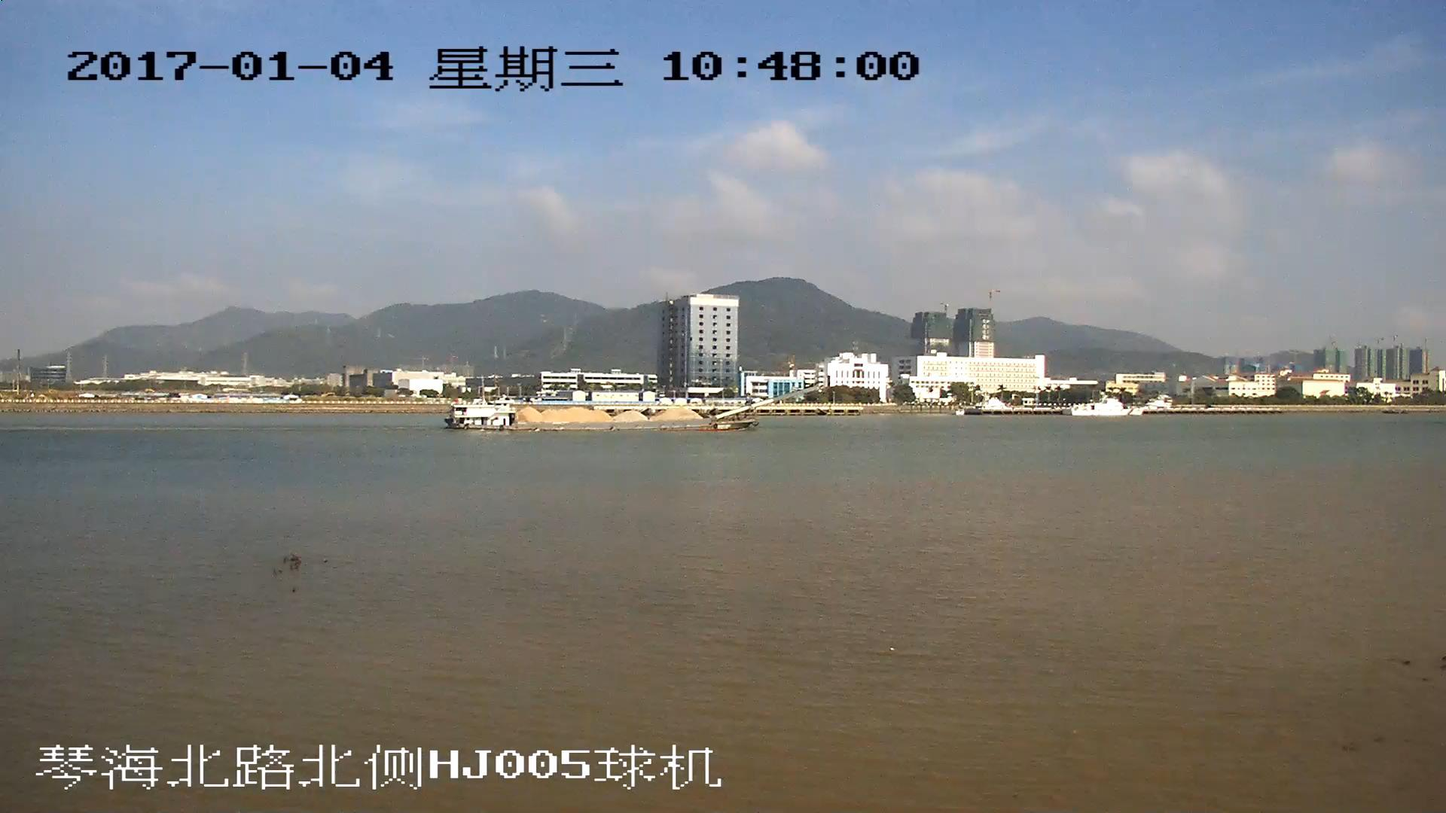ore carrier: (453, 382, 819, 432)
